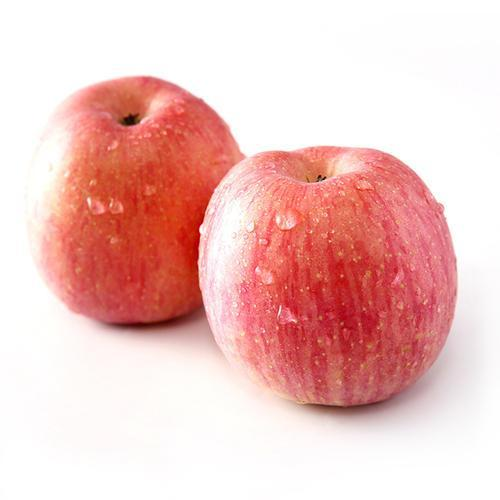apple: (195, 147, 453, 406), (22, 78, 246, 327)
